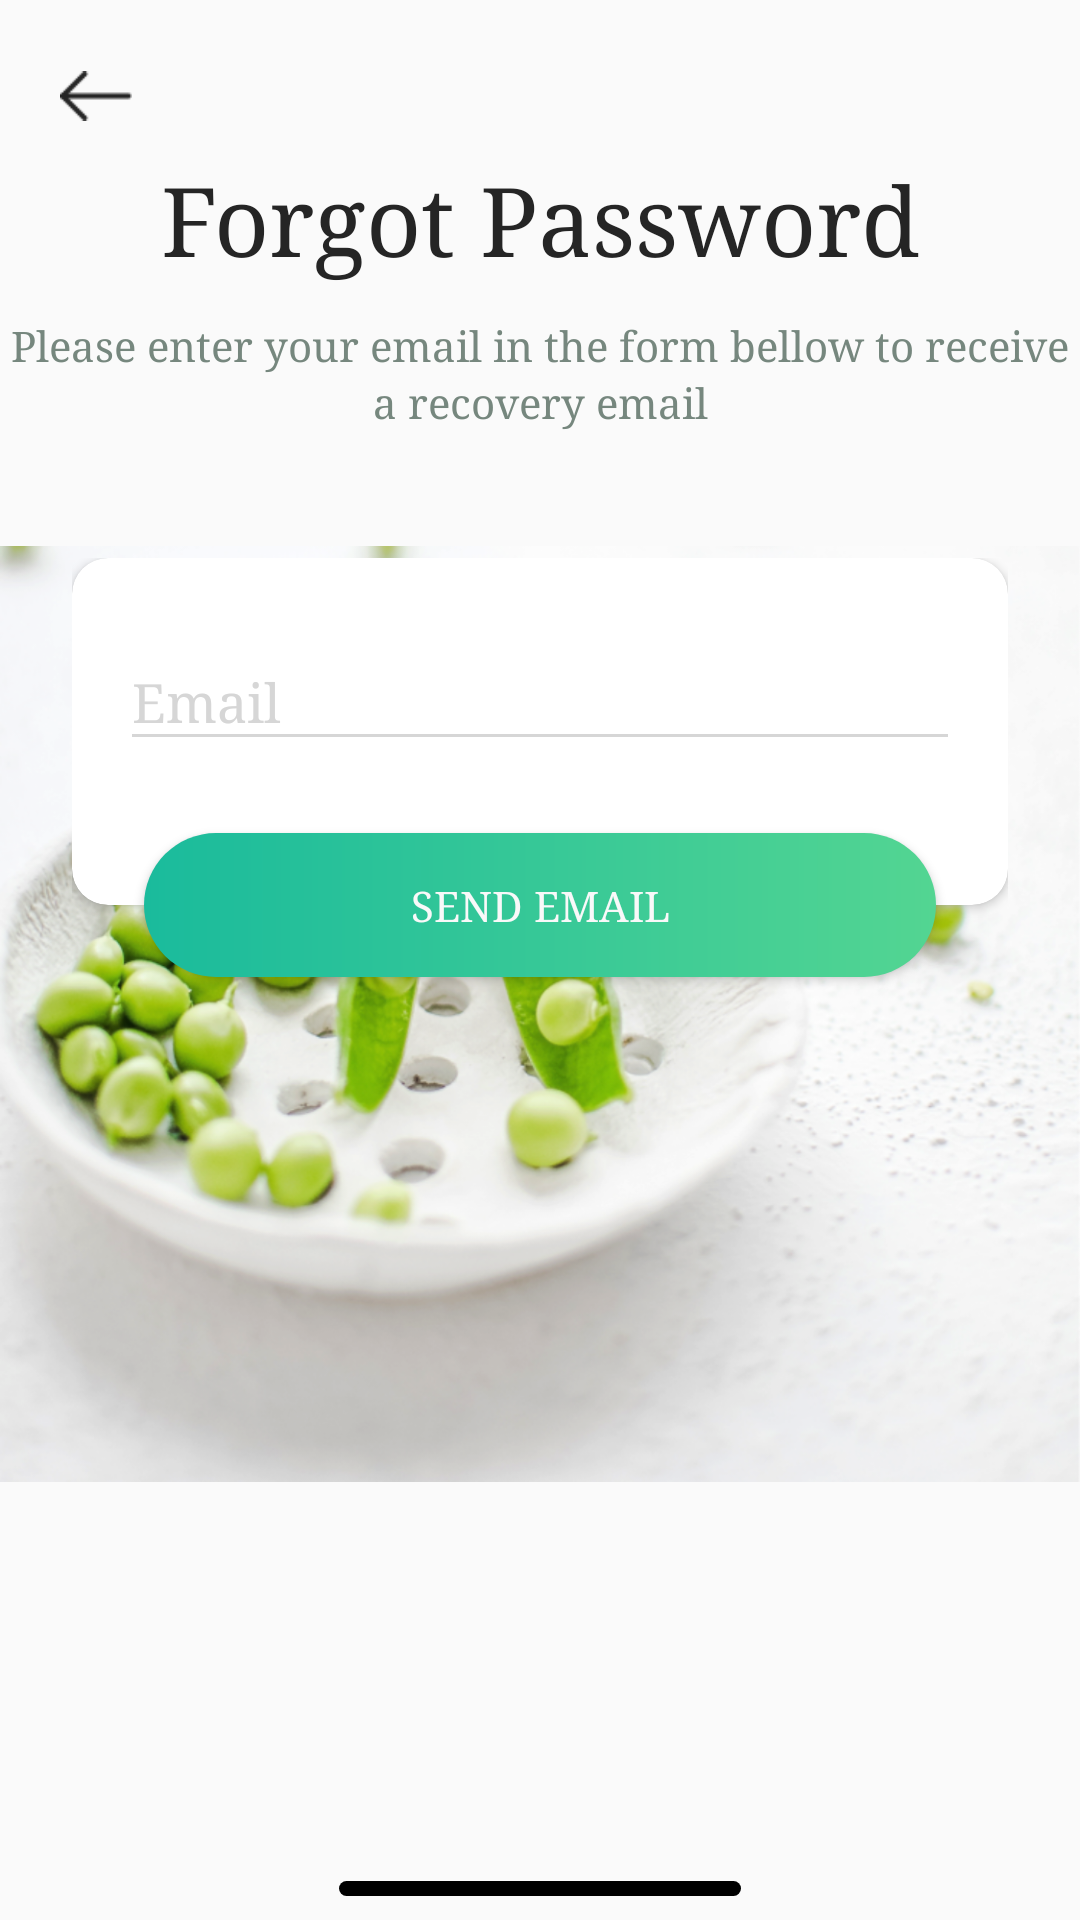

Named icons in this screenshot (1080x1920) and their bounding boxes, detection(x1, y1, x2, y2):
back arrow: detection(60, 71, 132, 121)
